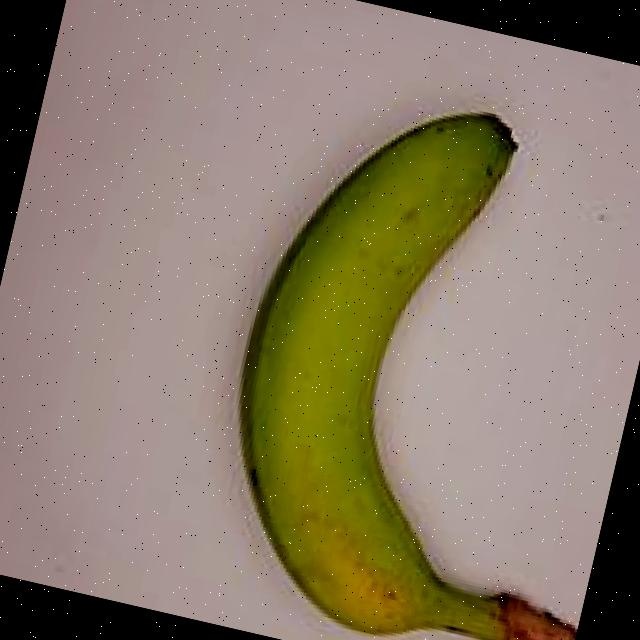Unripe: (134, 50, 640, 640)
